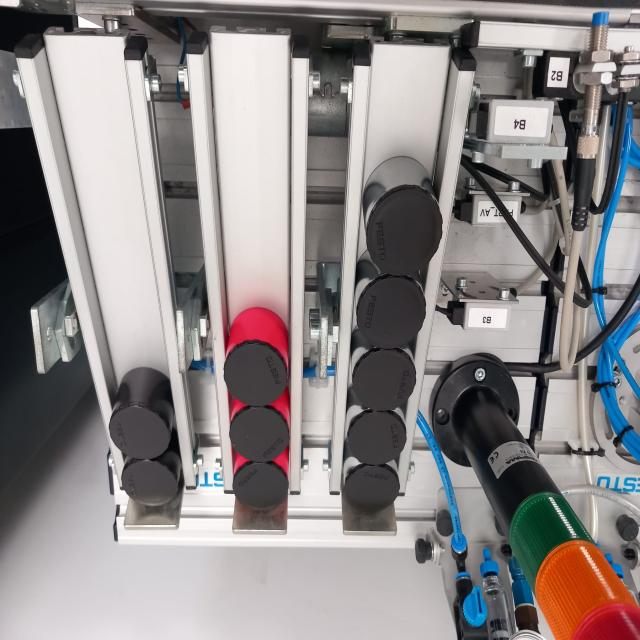Workpiece: (364, 152, 445, 280), (220, 294, 290, 406), (107, 359, 174, 460), (356, 274, 429, 352), (350, 349, 420, 419), (339, 451, 406, 517), (225, 403, 292, 464), (350, 410, 412, 474), (117, 459, 183, 515), (236, 463, 292, 521)
